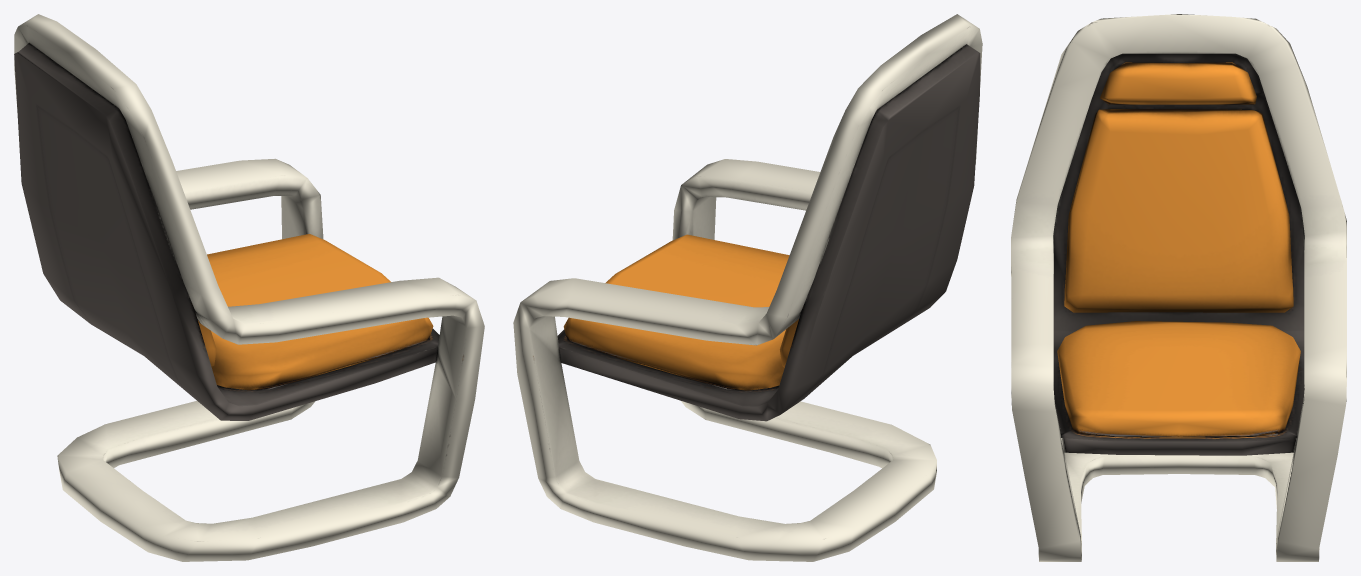
File: SM_Chair.fbx
3 views of the same model, side by side, from view 1: azimuth 30°, elevation 25°; view 2: azimuth 150°, elevation 25°; view 3: azimuth 270°, elevation 25° (orthographic). The views are drawn at different scales.
Visible parts, largest first — view 1: SM_Chair; view 2: SM_Chair; view 3: SM_Chair.
Boxes of the visible parts, box(x1,y1,x2,y2) form: SM_Chair: box(14, 14, 484, 561); SM_Chair: box(513, 14, 982, 561); SM_Chair: box(1011, 14, 1346, 561).
Size of what is drawn, in the model's own units: 82.3 by 80.96 by 115.
